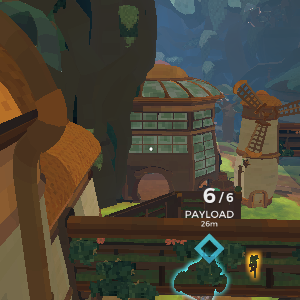model: (245, 250, 262, 283)
